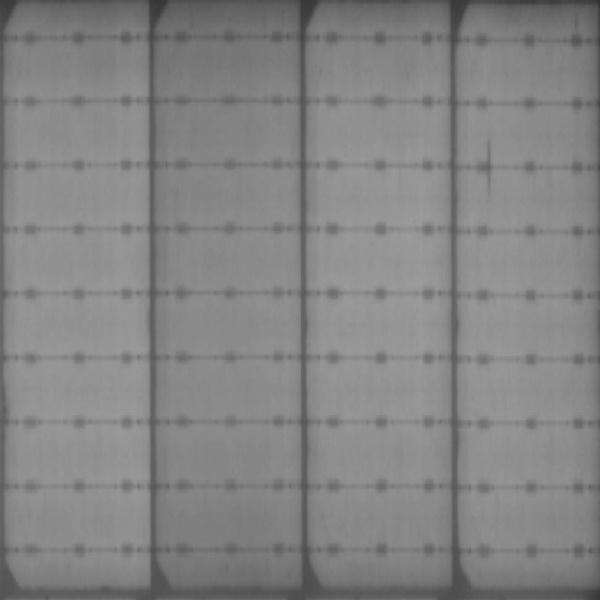scratch: (486, 143, 496, 202)
